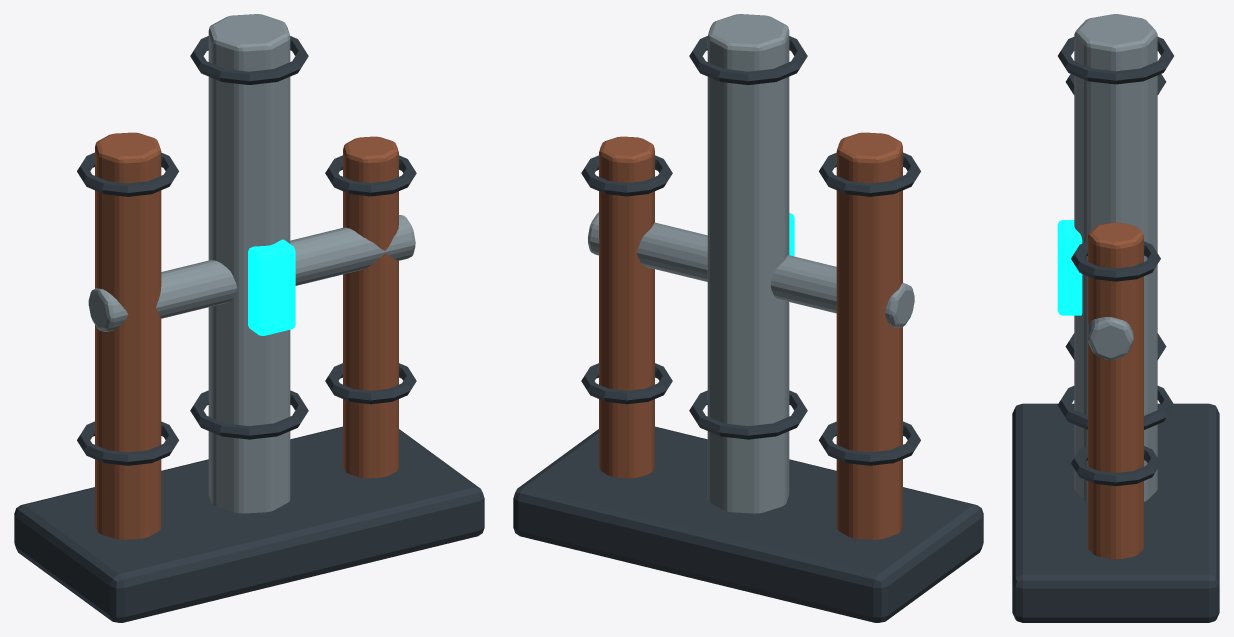
Rendered from Pipe-Cluster.glb.
3 views of the same model, side by side, from view 1: azimuth 30°, elevation 25°; view 2: azimuth 150°, elevation 25°; view 3: azimuth 270°, elevation 25° (orthographic).
Parts seen in each view (by area): view 1: PipeCluster_Base, PipeCluster_Pipe_1, PipeCluster_Pipe_0, PipeCluster_Pipe_2, PipeCluster_CrossPipe, PipeCluster_CyanValve, PipeCluster_Ring_1, PipeCluster_RingTop_1, PipeCluster_RingTop_0, PipeCluster_Ring_0, PipeCluster_Ring_2, PipeCluster_RingTop_2; view 2: PipeCluster_Base, PipeCluster_Pipe_1, PipeCluster_Pipe_0, PipeCluster_Pipe_2, PipeCluster_CrossPipe, PipeCluster_Ring_1, PipeCluster_RingTop_1, PipeCluster_RingTop_0, PipeCluster_Ring_0, PipeCluster_Ring_2, PipeCluster_RingTop_2; view 3: PipeCluster_Base, PipeCluster_Pipe_1, PipeCluster_Pipe_2, PipeCluster_CyanValve, PipeCluster_RingTop_1, PipeCluster_CrossPipe, PipeCluster_Ring_2, PipeCluster_RingTop_2, PipeCluster_Ring_1.
Boxes of the visible parts, x1,y1,x2,y2 form: PipeCluster_Base: [14, 426, 484, 622]; PipeCluster_Pipe_1: [208, 14, 290, 513]; PipeCluster_Pipe_0: [95, 132, 161, 539]; PipeCluster_Pipe_2: [343, 136, 398, 478]; PipeCluster_CrossPipe: [88, 215, 415, 331]; PipeCluster_CyanValve: [248, 239, 295, 335]; PipeCluster_Ring_1: [190, 390, 308, 439]; PipeCluster_RingTop_1: [190, 36, 308, 84]; PipeCluster_RingTop_0: [77, 152, 178, 196]; PipeCluster_Ring_0: [77, 421, 178, 465]; PipeCluster_Ring_2: [325, 363, 416, 404]; PipeCluster_RingTop_2: [325, 155, 416, 196]; PipeCluster_Base: [513, 426, 983, 622]; PipeCluster_Pipe_1: [707, 14, 789, 513]; PipeCluster_Pipe_0: [836, 132, 902, 539]; PipeCluster_Pipe_2: [599, 136, 654, 478]; PipeCluster_CrossPipe: [587, 212, 914, 327]; PipeCluster_Ring_1: [689, 390, 807, 439]; PipeCluster_RingTop_1: [689, 36, 807, 84]; PipeCluster_RingTop_0: [819, 152, 920, 196]; PipeCluster_Ring_0: [819, 421, 920, 465]; PipeCluster_Ring_2: [581, 363, 672, 404]; PipeCluster_RingTop_2: [581, 155, 672, 196]; PipeCluster_Base: [1012, 403, 1219, 622]; PipeCluster_Pipe_1: [1074, 14, 1157, 501]; PipeCluster_Pipe_2: [1088, 222, 1143, 559]; PipeCluster_CyanValve: [1057, 220, 1082, 315]; PipeCluster_RingTop_1: [1058, 37, 1173, 84]; PipeCluster_CrossPipe: [1087, 280, 1133, 360]; PipeCluster_Ring_2: [1071, 446, 1160, 486]; PipeCluster_RingTop_2: [1071, 241, 1160, 281]; PipeCluster_Ring_1: [1058, 386, 1173, 429].
Bounding box in the file's own units: 1.6 × 2.11 × 0.78.
